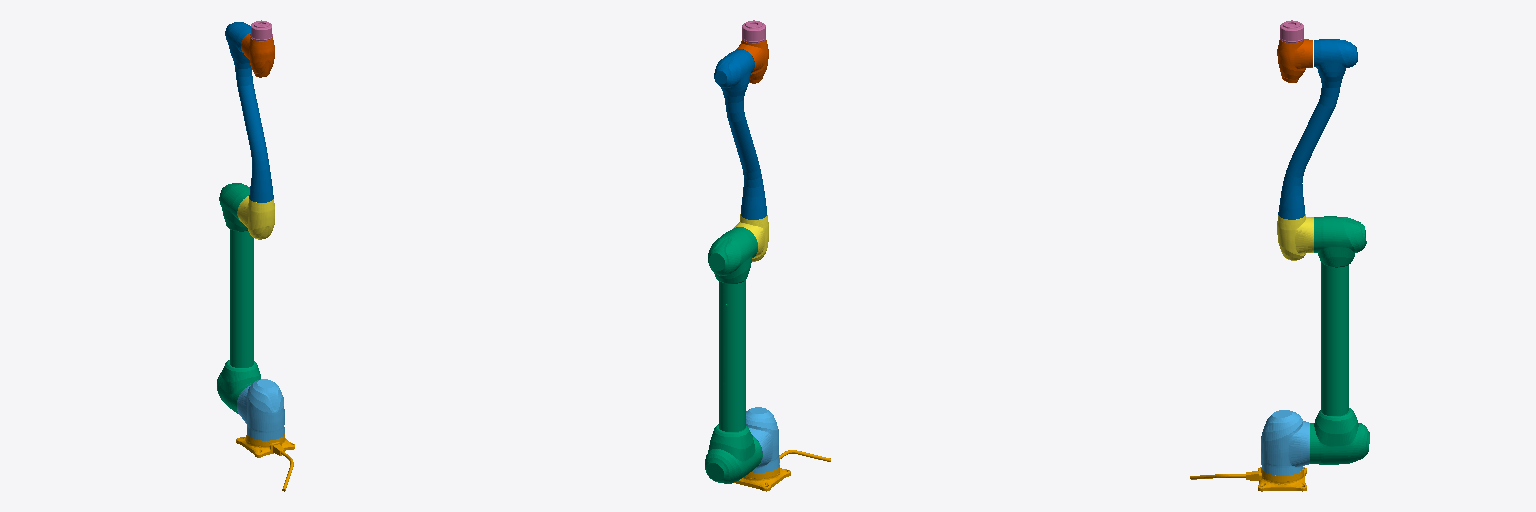
robot.urdf — m0617:
<?xml version="1.0" ?>
<!-- =================================================================================== -->
<!-- |    This document was autogenerated by xacro from /home/theochoi/ros2_ws/src/doosan-robot2-Theo/dsr_description2/xacro/m0617.urdf.xacro | -->
<!-- |    EDITING THIS FILE BY HAND IS NOT RECOMMENDED                                 | -->
<!-- =================================================================================== -->
<robot name="m0617">

    <mujoco>
        <compiler 
        meshdir="assets" 
        balanceinertia="true" 
        discardvisual="false" />
  </mujoco>

  <material name="black">
    <color rgba="0.0 0.0 0.0 1.0"/>
  </material>
  <material name="white">
    <color rgba="1.0 1.0 1.0 1.0"/>
  </material>
  <material name="orange">
    <color rgba="1.0 0.4 0.0 1.0"/>
  </material>
  <material name="dr_gray">
    <color rgba="0.490 0.490 0.486 1.0"/>
  </material>
  <material name="dr_white">
    <color rgba="0.941 0.941 0.941 1.0"/>
  </material>
  <material name="dr_blue">
    <color rgba="0 0 0.15 1"/>
  </material>
  <link name="base_link">
    <inertial>
      <mass value="4.12"/>
      <origin xyz="-3.4e-05   -0.004815    0.048482"/>
      <inertia ixx="0.020415" ixy="-3.9311e-06" ixz="2.3764e-06" iyy="0.014927" iyz="-0.00051388" izz="0.023376"/>
    </inertial>
    <collision>
      <origin rpy="0 0 0" xyz="0 0 0"/>
      <geometry>
        <mesh filename="MF0617_0_0.stl" scale="0.001 0.001 0.001"/>
      </geometry>
    </collision>
    <visual>
      <origin rpy="0 0 0" xyz="0 0 0"/>
      <geometry>
        <mesh filename="MF0617_0_0.stl" scale="0.001 0.001 0.001"/>
      </geometry>
    </visual>
  </link>
  <!-- joint 1 -->
  <joint name="joint_1" type="revolute">
    <parent link="base_link"/>
    <child link="link_1"/>
    <origin rpy="0 0 0" xyz="0 0 0.1525"/>
    <axis xyz="0 0 1"/>
    <limit effort="346" lower="-6.2832" upper="6.2832" velocity="1.7453"/>
    <dynamics friction="0"/>
  </joint>
  <link name="link_1">
    <inertial>
      <mass value="7.8"/>
      <origin xyz="0.000119      0.0428   -0.006383"/>
      <inertia ixx="0.047267" ixy="4.1409e-05" ixz="-5.3877e-05" iyy="0.03119" iyz="-0.0019953" izz="0.047021"/>
    </inertial>
    <collision>
      <origin rpy="0 0 0" xyz="0 0 0"/>
      <geometry>
        <mesh filename="MF0617_1_0.stl" scale="0.001 0.001 0.001"/>
      </geometry>
    </collision>
    <visual>
      <origin rpy="0 0 0" xyz="0 0 0"/>
      <geometry>
        <mesh filename="MF0617_1_0.stl" scale="0.001 0.001 0.001"/>
      </geometry>
    </visual>
  </link>
  <!-- joint2 -->
  <joint name="joint_2" type="revolute">
    <parent link="link_1"/>
    <child link="link_2"/>
    <origin rpy="0 -1.571 -1.571" xyz="0 0.0345 0"/>
    <axis xyz="0 0 1"/>
    <limit effort="346" lower="-6.2832" upper="6.2832" velocity="1.7453"/>
    <dynamics friction="0"/>
  </joint>
  <link name="link_2">
    <inertial>
      <mass value="11.55"/>
      <origin xyz="0.35752      -5e-05      0.1582"/>
      <inertia ixx="0.039245" ixy="-0.00050916" ixz="-0.0099927" iyy="1.6244" iyz="4.4298e-05" izz="1.626"/>
    </inertial>
    <collision>
      <origin rpy="0 0 0" xyz="0 0 0"/>
      <geometry>
        <mesh filename="MF0617_2_0.stl" scale="0.001 0.001 0.001"/>
      </geometry>
    </collision>
    <visual>
      <origin rpy="0 0 0" xyz="0 0 0"/>
      <geometry>
        <mesh filename="MF0617_2_0.stl" scale="0.001 0.001 0.001"/>
      </geometry>
    </visual>
    <collision>
      <origin rpy="0 0 0" xyz="0 0 0"/>
      <geometry>
        <mesh filename="MF0617_2_1.stl" scale="0.001 0.001 0.001"/>
      </geometry>
    </collision>
    <visual>
      <origin rpy="0 0 0" xyz="0 0 0"/>
      <geometry>
        <mesh filename="MF0617_2_1.stl" scale="0.001 0.001 0.001"/>
      </geometry>
    </visual>
    <collision>
      <origin rpy="0 0 0" xyz="0 0 0"/>
      <geometry>
        <mesh filename="MF0617_2_2.stl" scale="0.001 0.001 0.001"/>
      </geometry>
    </collision>
    <visual>
      <origin rpy="0 0 0" xyz="0 0 0"/>
      <geometry>
        <mesh filename="MF0617_2_2.stl" scale="0.001 0.001 0.001"/>
      </geometry>
    </visual>
  </link>
  <!-- joint3 -->
  <joint name="joint_3" type="revolute">
    <parent link="link_2"/>
    <child link="link_3"/>
    <origin rpy="0 0 1.571" xyz="0.845 0 0"/>
    <axis xyz="0 0 1"/>
    <limit effort="163" lower="-2.8798" upper="2.8798" velocity="2.618"/>
    <dynamics friction="0"/>
  </joint>
  <link name="link_3">
    <inertial>
      <mass value="3.68"/>
      <origin xyz="-1.5e-05   -0.006702    0.044608"/>
      <inertia ixx="0.020579" ixy="1.0111e-05" ixz="-6.784e-07" iyy="0.019181" iyz="-0.0009947" izz="0.014379"/>
    </inertial>
    <collision>
      <origin rpy="0 0 0" xyz="0 0 0"/>
      <geometry>
        <mesh filename="MF0617_3_0.stl" scale="0.001 0.001 0.001"/>
      </geometry>
    </collision>
    <visual>
      <origin rpy="0 0 0" xyz="0 0 0"/>
      <geometry>
        <mesh filename="MF0617_3_0.stl" scale="0.001 0.001 0.001"/>
      </geometry>
    </visual>
  </link>
  <!-- joint4 -->
  <joint name="joint_4" type="revolute">
    <parent link="link_3"/>
    <child link="link_4"/>
    <origin rpy="1.571 0 0" xyz="0 -0.734 0"/>
    <axis xyz="0 0 1"/>
    <limit effort="50" lower="-6.2832" upper="6.2832" velocity="3.927"/>
    <dynamics friction="0"/>
  </joint>
  <link name="link_4">
    <inertial>
      <mass value="4.28"/>
      <origin xyz="5.7e-05    0.091288    -0.25319"/>
      <inertia ixx="0.35652" ixy="-1.8897e-05" ixz="-4.9971e-05" iyy="0.33627" iyz="-0.076995" izz="0.029844"/>
    </inertial>
    <collision>
      <origin rpy="0 0 0" xyz="0 0 0"/>
      <geometry>
        <mesh filename="MF0617_4_0.stl" scale="0.001 0.001 0.001"/>
      </geometry>
    </collision>
    <visual>
      <origin rpy="0 0 0" xyz="0 0 0"/>
      <geometry>
        <mesh filename="MF0617_4_0.stl" scale="0.001 0.001 0.001"/>
      </geometry>
    </visual>
    <collision>
      <origin rpy="0 0 0" xyz="0 0 0"/>
      <geometry>
        <mesh filename="MF0617_4_1.stl" scale="0.001 0.001 0.001"/>
      </geometry>
    </collision>
    <visual>
      <origin rpy="0 0 0" xyz="0 0 0"/>
      <geometry>
        <mesh filename="MF0617_4_1.stl" scale="0.001 0.001 0.001"/>
      </geometry>
    </visual>
  </link>
  <!-- joint5 -->
  <joint name="joint_5" type="revolute">
    <parent link="link_4"/>
    <child link="link_5"/>
    <origin rpy="-1.571 0 0" xyz="0 0 0"/>
    <axis xyz="0 0 1"/>
    <limit effort="50" lower="-6.2832" upper="6.2832" velocity="3.927"/>
    <dynamics friction="0"/>
  </joint>
  <link name="link_5">
    <inertial>
      <mass value="2.8"/>
      <origin xyz="-0.000273    0.003651     0.032087"/>
      <inertia ixx="0.012016" ixy="2.1647e-05" ixz="-4.85e-06" iyy="0.013232" iyz="0.00042654" izz="0.010423"/>
    </inertial>
    <collision>
      <origin rpy="0 0 0" xyz="0 0 0"/>
      <geometry>
        <mesh filename="MF0617_5_0.stl" scale="0.001 0.001 0.001"/>
      </geometry>
    </collision>
    <visual>
      <origin rpy="0 0 0" xyz="0 0 0"/>
      <geometry>
        <mesh filename="MF0617_5_0.stl" scale="0.001 0.001 0.001"/>
      </geometry>
    </visual>
  </link>
  <!-- joint6 -->
  <joint name="joint_6" type="revolute">
    <parent link="link_5"/>
    <child link="link_6"/>
    <origin rpy="1.571 0 0" xyz="0 -0.121 0"/>
    <axis xyz="0 0 1"/>
    <limit effort="50" lower="-6.2832" upper="6.2832" velocity="3.927"/>
    <dynamics friction="0"/>
  </joint>
  <link name="link_6">
    <inertial>
      <mass value="1.16"/>
      <origin xyz="-0.000292       7e-06     -0.0539"/>
      <inertia ixx="0.0086448" ixy="3.5791e-06" ixz="5.1469e-06" iyy="0.0045613" iyz="5.8483e-06" izz="0.0086768"/>
    </inertial>
    <collision>
      <origin rpy="0 0 0" xyz="0 0 0"/>
      <geometry>
        <mesh filename="MF0617_6_0.stl" scale="0.001 0.001 0.001"/>
      </geometry>
    </collision>
    <visual>
      <origin rpy="0 0 0" xyz="0 0 0"/>
      <geometry>
        <mesh filename="MF0617_6_0.stl" scale="0.001 0.001 0.001"/>
      </geometry>
    </visual>
  </link>
  <!-- Transmission 1 -->
  <transmission name="tran1">
    <type>transmission_interface/SimpleTransmission</type>
    <joint name="joint1">
      <hardwareInterface>hardware_interface/PositionJointInterface</hardwareInterface>
    </joint>
    <actuator name="motor1">
      <hardwareInterface>hardware_interface/PositionJointInterface</hardwareInterface>
      <mechanicalReduction>1</mechanicalReduction>
    </actuator>
  </transmission>
  <!-- Transmission 2 -->
  <transmission name="tran2">
    <type>transmission_interface/SimpleTransmission</type>
    <joint name="joint2">
      <hardwareInterface>hardware_interface/PositionJointInterface</hardwareInterface>
    </joint>
    <actuator name="motor2">
      <hardwareInterface>hardware_interface/PositionJointInterface</hardwareInterface>
      <mechanicalReduction>1</mechanicalReduction>
    </actuator>
  </transmission>
  <!-- Transmission 3 -->
  <transmission name="tran3">
    <type>transmission_interface/SimpleTransmission</type>
    <joint name="joint3">
      <hardwareInterface>hardware_interface/PositionJointInterface</hardwareInterface>
    </joint>
    <actuator name="motor3">
      <hardwareInterface>hardware_interface/PositionJointInterface</hardwareInterface>
      <mechanicalReduction>1</mechanicalReduction>
    </actuator>
  </transmission>
  <!-- Transmission 4 -->
  <transmission name="tran4">
    <type>transmission_interface/SimpleTransmission</type>
    <joint name="joint4">
      <hardwareInterface>hardware_interface/PositionJointInterface</hardwareInterface>
    </joint>
    <actuator name="motor4">
      <hardwareInterface>hardware_interface/PositionJointInterface</hardwareInterface>
      <mechanicalReduction>1</mechanicalReduction>
    </actuator>
  </transmission>
  <!-- Transmission 5 -->
  <transmission name="tran5">
    <type>transmission_interface/SimpleTransmission</type>
    <joint name="joint5">
      <hardwareInterface>hardware_interface/PositionJointInterface</hardwareInterface>
    </joint>
    <actuator name="motor5">
      <hardwareInterface>hardware_interface/PositionJointInterface</hardwareInterface>
      <mechanicalReduction>1</mechanicalReduction>
    </actuator>
  </transmission>
  <!-- Transmission 6 -->
  <transmission name="tran6">
    <type>transmission_interface/SimpleTransmission</type>
    <joint name="joint6">
      <hardwareInterface>hardware_interface/PositionJointInterface</hardwareInterface>
    </joint>
    <actuator name="motor6">
      <hardwareInterface>hardware_interface/PositionJointInterface</hardwareInterface>
      <mechanicalReduction>1</mechanicalReduction>
    </actuator>
  </transmission>
  <!-- ros_control plugin -->
  <gazebo>
    <plugin filename="ign_ros2_control-system" name="ign_ros2_control::IgnitionROS2ControlPlugin">
      <ros>
        <namespace></namespace>
      </ros>
      <parameters>/home/theochoi/ros2_ws/install/dsr_controller2/share/dsr_controller2/config/dsr_controller2_gz.yaml</parameters>
    </plugin>
  </gazebo>
  <!-- Base -->
  <gazebo reference="base_0">
    <kp>100000.0</kp>
    <kd>100.0</kd>
    <mu1>30.0</mu1>
    <mu2>30.0</mu2>
    <maxVel>1.0</maxVel>
    <minDepth>0.001</minDepth>
  </gazebo>
  <!-- Link1 -->
  <gazebo reference="link1">
    <kp>100000.0</kp>
    <kd>100.0</kd>
    <mu1>30.0</mu1>
    <mu2>30.0</mu2>
    <maxVel>1.0</maxVel>
    <minDepth>0.001</minDepth>
  </gazebo>
  <!-- Link2 -->
  <gazebo reference="link2">
    <kp>100000.0</kp>
    <kd>100.0</kd>
    <mu1>30.0</mu1>
    <mu2>30.0</mu2>
    <maxVel>1.0</maxVel>
    <minDepth>0.001</minDepth>
  </gazebo>
  <!-- Link3 -->
  <gazebo reference="link3">
    <kp>100000.0</kp>
    <kd>100.0</kd>
    <mu1>30.0</mu1>
    <mu2>30.0</mu2>
    <maxVel>1.0</maxVel>
    <minDepth>0.001</minDepth>
  </gazebo>
  <!-- Link4 -->
  <gazebo reference="link4">
    <kp>100000.0</kp>
    <kd>100.0</kd>
    <mu1>30.0</mu1>
    <mu2>30.0</mu2>
    <maxVel>1.0</maxVel>
    <minDepth>0.001</minDepth>
  </gazebo>
  <!-- Link5 -->
  <gazebo reference="link5">
    <kp>100000.0</kp>
    <kd>100.0</kd>
    <mu1>30.0</mu1>
    <mu2>30.0</mu2>
    <maxVel>1.0</maxVel>
    <minDepth>0.001</minDepth>
  </gazebo>
  <!-- Link6 -->
  <gazebo reference="link6">
    <kp>100000.0</kp>
    <kd>100.0</kd>
    <mu1>30.0</mu1>
    <mu2>30.0</mu2>
    <maxVel>1.0</maxVel>
    <minDepth>0.001</minDepth>
  </gazebo>
  <link name="world"/>
  <!-- World fixed joint-->
  <joint name="world_fixed" type="fixed">
    <origin rpy="0 0 0" xyz="0 0 0"/>
    <parent link="world"/>
    <child link="base_link"/>
  </joint>
  <ros2_control name="m0617" type="system">
    <hardware>
      <plugin>dsr_hardware2/DRHWInterface</plugin>
      <param name="host"></param>
      <param name="rt_host"></param>
      <param name="port"></param>
      <param name="mode"></param>
      <param name="model"></param>
    </hardware>
    <joint name="joint_1">
      <command_interface name="position">
        <param name="min">{-2*pi}</param>
        <param name="max">{2*pi}</param>
      </command_interface>
      <command_interface name="velocity">
        <param name="min">-3.15</param>
        <param name="max">3.15</param>
      </command_interface>
      <state_interface name="position">
        <param name="initial_value">0.0</param>
      </state_interface>
      <state_interface name="velocity"/>
    </joint>
    <joint name="joint_2">
      <command_interface name="position">
        <param name="min">{-2*pi}</param>
        <param name="max">{2*pi}</param>
      </command_interface>
      <command_interface name="velocity">
        <param name="min">-3.15</param>
        <param name="max">3.15</param>
      </command_interface>
      <state_interface name="position">
        <param name="initial_value">0.0</param>
      </state_interface>
      <state_interface name="velocity"/>
    </joint>
    <joint name="joint_3">
      <command_interface name="position">
        <param name="min">{-pi}</param>
        <param name="max">{pi}</param>
      </command_interface>
      <command_interface name="velocity">
        <param name="min">-3.15</param>
        <param name="max">3.15</param>
      </command_interface>
      <state_interface name="position">
        <param name="initial_value">0.0</param>
      </state_interface>
      <state_interface name="velocity"/>
    </joint>
    <joint name="joint_4">
      <command_interface name="position">
        <param name="min">{-2*pi}</param>
        <param name="max">{2*pi}</param>
      </command_interface>
      <command_interface name="velocity">
        <param name="min">-3.2</param>
        <param name="max">3.2</param>
      </command_interface>
      <state_interface name="position">
        <param name="initial_value">0.0</param>
      </state_interface>
      <state_interface name="velocity"/>
    </joint>
    <joint name="joint_5">
      <command_interface name="position">
        <param name="min">{-2*pi}</param>
        <param name="max">{2*pi}</param>
      </command_interface>
      <command_interface name="velocity">
        <param name="min">-3.2</param>
        <param name="max">3.2</param>
      </command_interface>
      <state_interface name="position">
        <param name="initial_value">0.0</param>
      </state_interface>
      <state_interface name="velocity"/>
    </joint>
    <joint name="joint_6">
      <command_interface name="position">
        <param name="min">{-2*pi}</param>
        <param name="max">{2*pi}</param>
      </command_interface>
      <command_interface name="velocity">
        <param name="min">-3.2</param>
        <param name="max">3.2</param>
      </command_interface>
      <state_interface name="position">
        <param name="initial_value">0.0</param>
      </state_interface>
      <state_interface name="velocity"/>
    </joint>
  </ros2_control>
</robot>

--- Render facts (derived) ---
The picture shows the robot from 3 angles, left to right: view 1: azimuth 30°, elevation 25°; view 2: azimuth 150°, elevation 25°; view 3: azimuth 270°, elevation 25°; orthographic projection.
Robot: m0617 — 8 links, 7 joints (6 revolute, 1 fixed); root link world; default pose: every joint at zero.
Visible links, largest first — view 1: link_2, link_4, link_1, link_3, link_5, base_link; view 2: link_2, link_4, link_1, base_link, link_5, link_3; view 3: link_2, link_4, link_1, link_3, link_5, base_link.
Link boxes in pixels (x1=…): link_2: x1=217, y1=183, x2=260, y2=413; link_4: x1=225, y1=22, x2=273, y2=202; link_1: x1=237, y1=379, x2=284, y2=440; link_3: x1=237, y1=196, x2=274, y2=239; link_5: x1=241, y1=33, x2=274, y2=77; base_link: x1=236, y1=434, x2=294, y2=491; link_2: x1=705, y1=227, x2=762, y2=483; link_4: x1=714, y1=49, x2=766, y2=219; link_1: x1=746, y1=407, x2=778, y2=472; base_link: x1=734, y1=450, x2=830, y2=491; link_5: x1=736, y1=39, x2=768, y2=83; link_3: x1=733, y1=214, x2=768, y2=261; link_2: x1=1310, y1=216, x2=1369, y2=464; link_4: x1=1278, y1=39, x2=1357, y2=219; link_1: x1=1261, y1=410, x2=1309, y2=475; link_3: x1=1277, y1=214, x2=1313, y2=260; link_5: x1=1277, y1=39, x2=1312, y2=82; base_link: x1=1190, y1=467, x2=1306, y2=491.
Size in the robot's own frame: 0.2064 by 0.6617 by 1.9 metres.
10 mesh visuals loaded from 10 distinct referenced files (10 binary STL).
